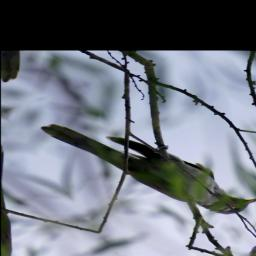Cuckoo: (31, 84, 256, 249)
